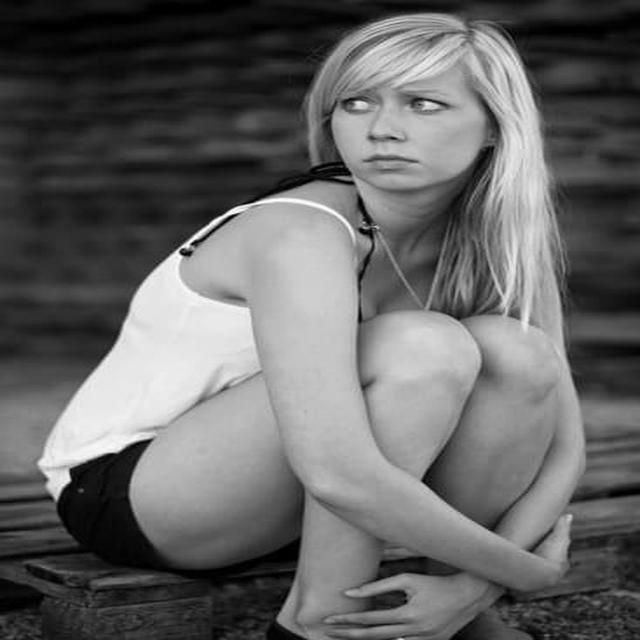Fear: (335, 72, 471, 192)
